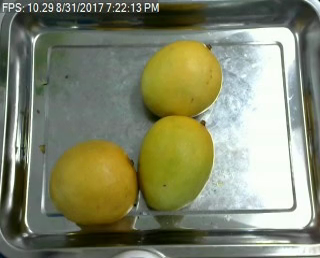Mango: (138, 116, 213, 214), (50, 139, 137, 223), (141, 40, 223, 117)
